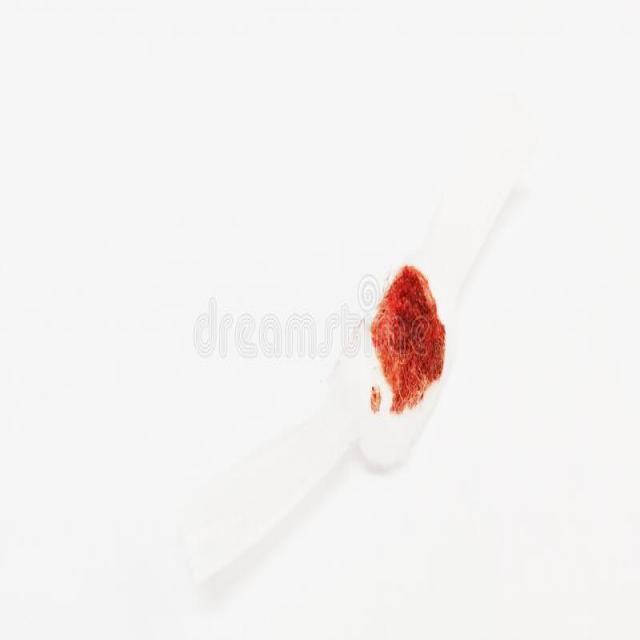wound: (340, 245, 476, 430)
